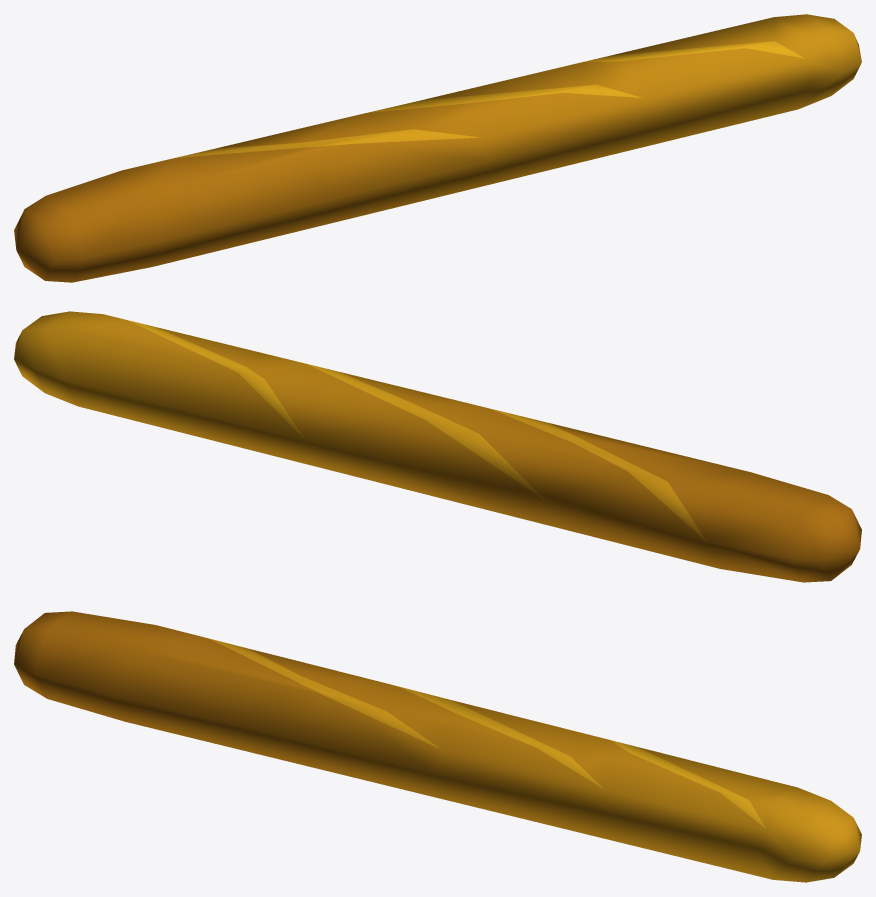
Rendered from MarketStand_Bread_01.fbx.
The picture shows the model from 3 angles, top to bottom: view 1: azimuth 30°, elevation 25°; view 2: azimuth 150°, elevation 25°; view 3: azimuth 330°, elevation 25°; orthographic projection.
Visible parts, largest first — view 1: MarketStand_Bread_01; view 2: MarketStand_Bread_01; view 3: MarketStand_Bread_01.
Part boxes in pixels (x1,y1,x2,y2): MarketStand_Bread_01: (14, 14, 861, 282); MarketStand_Bread_01: (14, 311, 861, 582); MarketStand_Bread_01: (14, 611, 861, 882).
Bounding box in the file's own units: 93.44 × 7.84 × 11.04.
Materials: 1 (1 with a texture image).
